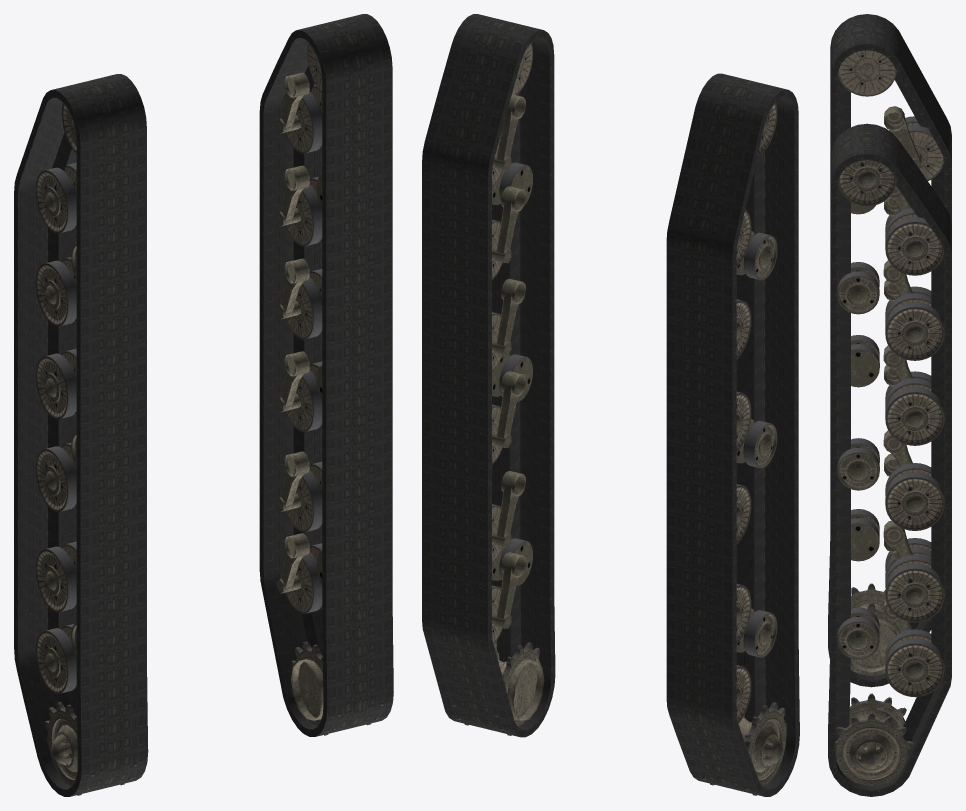
The model's file is Chassis.glb.
The picture shows the model from 3 angles, left to right: view 1: azimuth 30°, elevation 25°; view 2: azimuth 150°, elevation 25°; view 3: azimuth 270°, elevation 25°; orthographic projection. The views are drawn at different scales.
Visible parts, largest first — view 1: set_1_group_0, set_0_group_0, set_2_group_0, set_3_group_0; view 2: set_1_group_0, set_0_group_0, set_2_group_0, set_3_group_0; view 3: set_2_group_0, set_0_group_0, set_3_group_0, set_1_group_0.
Boxes of the visible parts, <box> form: set_1_group_0: <box>14,74,148,796</box>; set_0_group_0: <box>259,14,393,736</box>; set_2_group_0: <box>276,43,383,735</box>; set_3_group_0: <box>35,103,136,795</box>; set_1_group_0: <box>666,73,799,796</box>; set_0_group_0: <box>422,14,555,737</box>; set_2_group_0: <box>452,42,544,735</box>; set_3_group_0: <box>702,102,786,795</box>; set_2_group_0: <box>835,160,944,785</box>; set_0_group_0: <box>828,123,951,796</box>; set_3_group_0: <box>838,50,944,675</box>; set_1_group_0: <box>828,14,951,687</box>.
Bounding box in the file's own units: 3.14 × 6.59 × 1.15.
4 materials, 4 textured.
